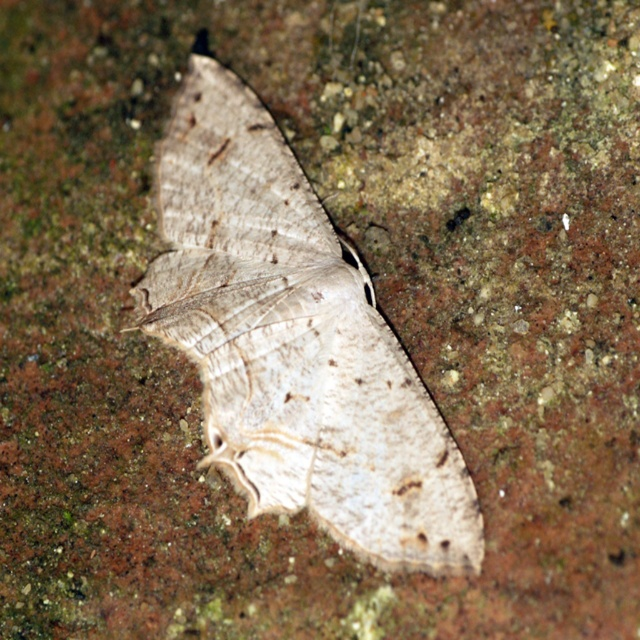Butterfly: (118, 46, 443, 529)
